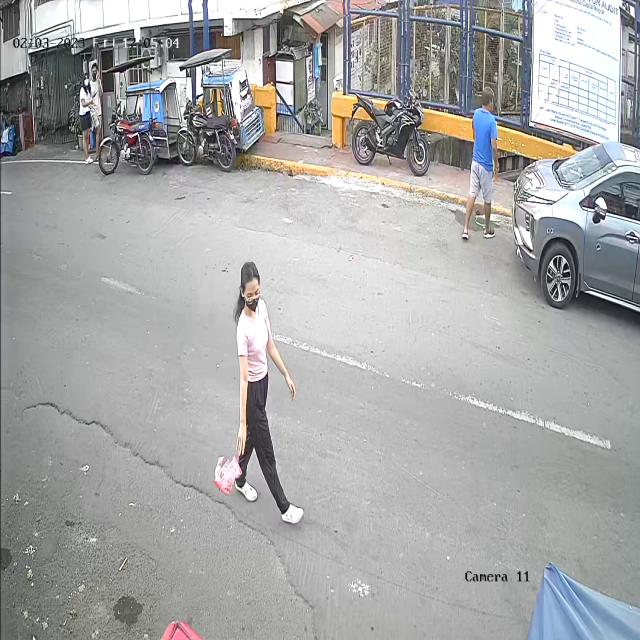garbage_dumping: (212, 449, 243, 495)
